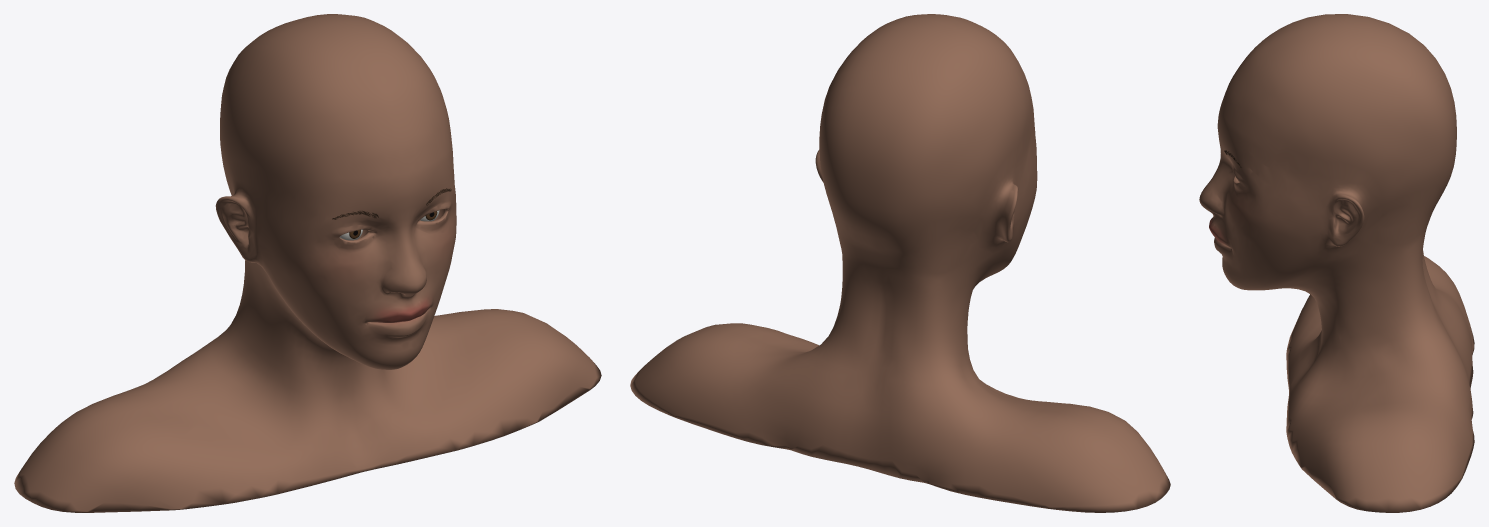
The model's file is lab-head-reviewed-normal.glb.
The picture shows the model from 3 angles, left to right: view 1: azimuth 30°, elevation 25°; view 2: azimuth 150°, elevation 25°; view 3: azimuth 270°, elevation 25°; orthographic projection. The views are drawn at different scales.
Visible parts, largest first — view 1: part-skin-head; view 2: part-skin-head; view 3: part-skin-head.
Boxes of the visible parts, left/top/right/bottom form: part-skin-head: left=14, top=14, right=601, bottom=512; part-skin-head: left=630, top=14, right=1170, bottom=512; part-skin-head: left=1199, top=14, right=1474, bottom=512.
Size of the model in its own units: 30.9 by 22.03 by 14.92.
